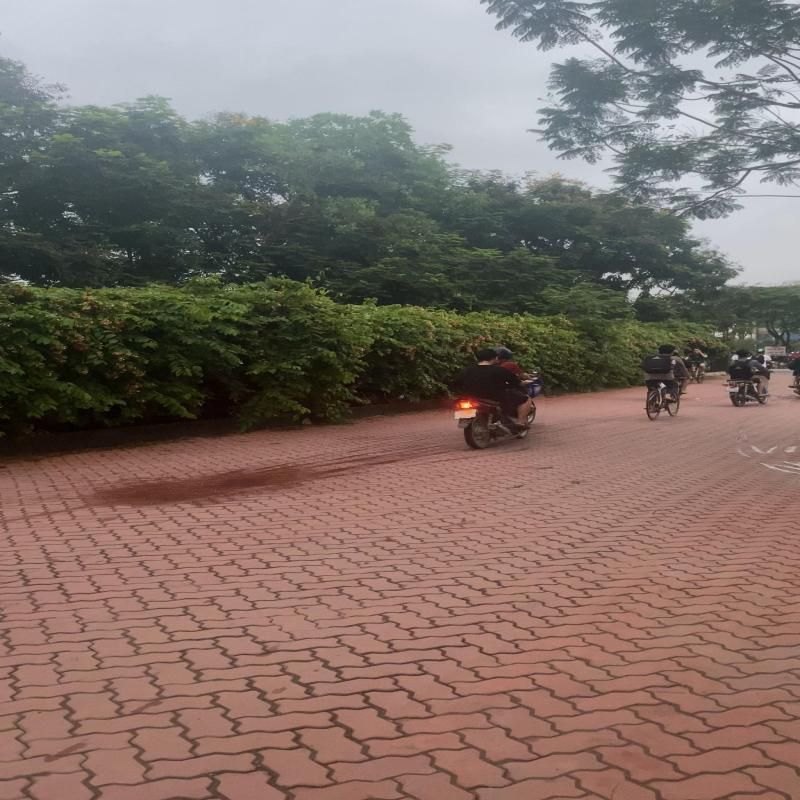helmet: (493, 346, 514, 360)
licenseplate: (452, 408, 477, 419)
motorcyclist: (447, 346, 546, 450)
nohelmet: (475, 348, 499, 364)
